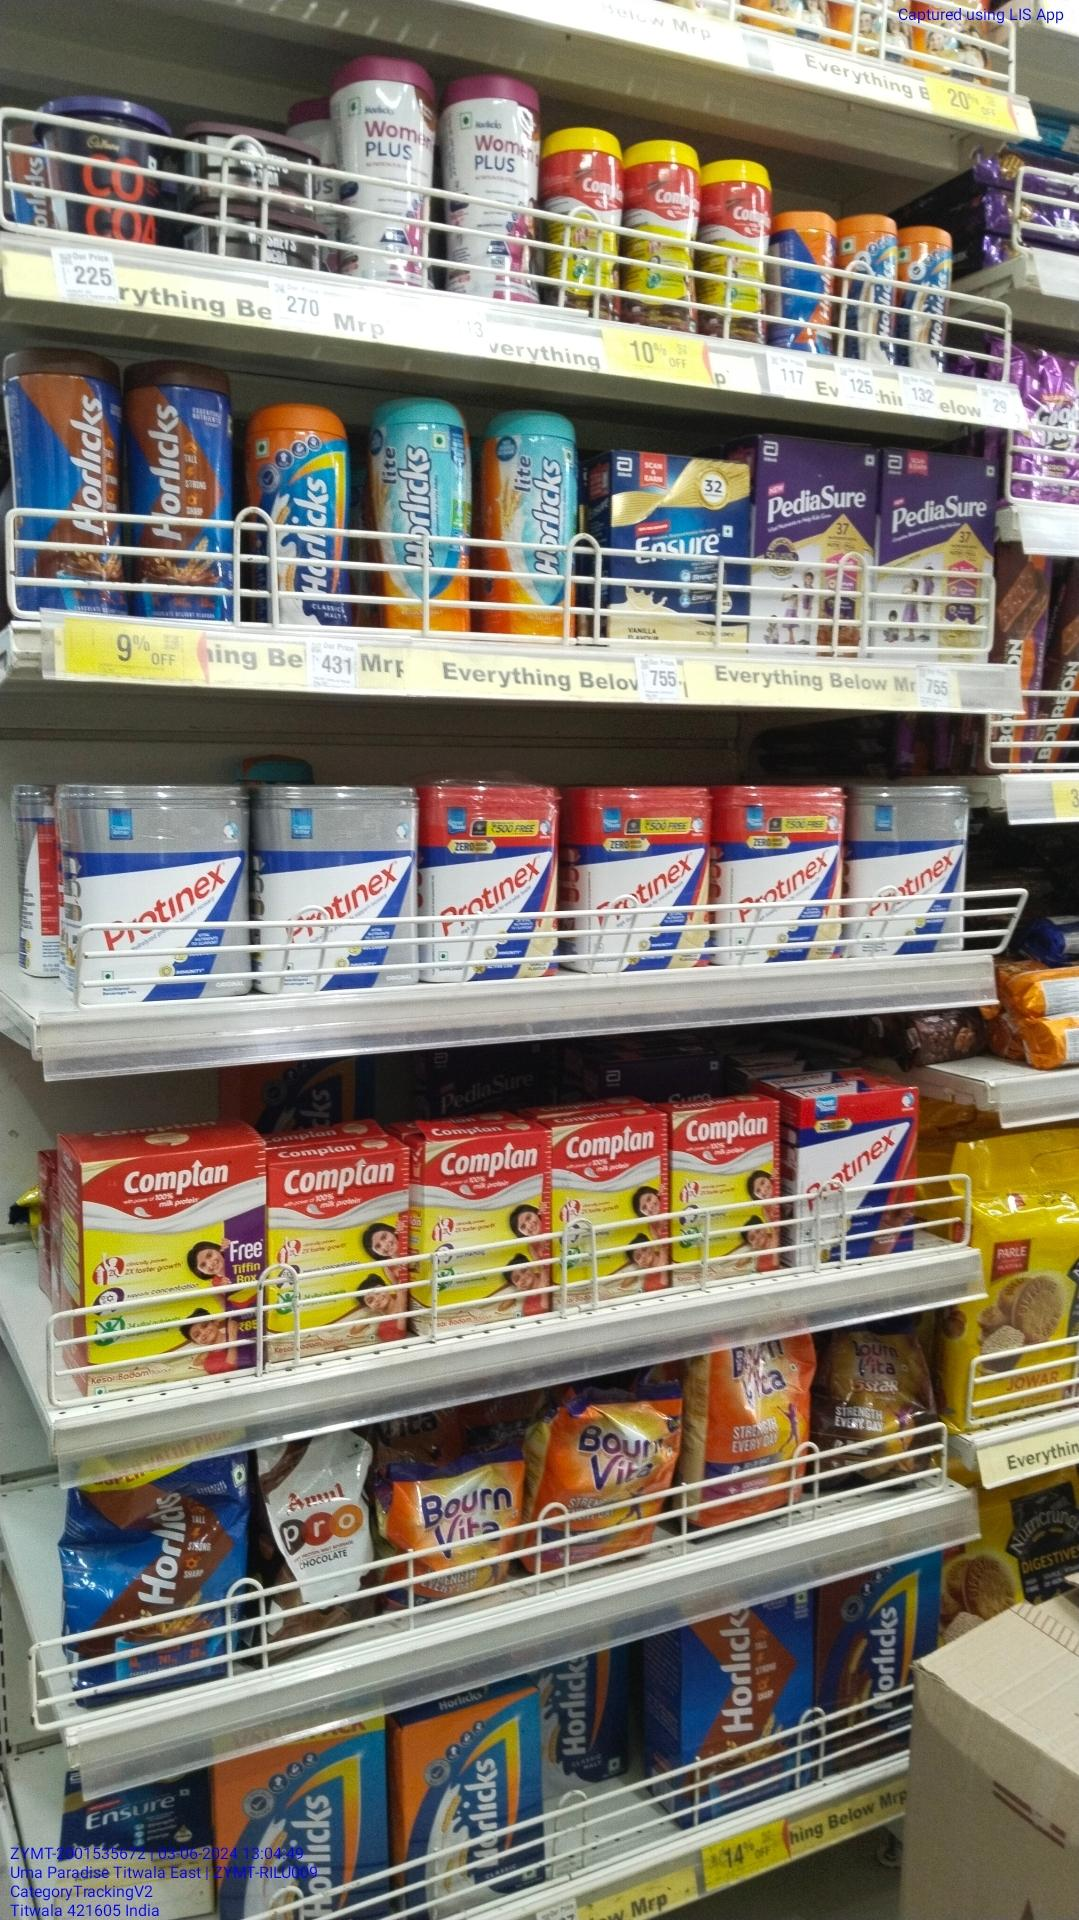COMPLAN_CHOCOLATE_200_GMS_JAR: (542, 129, 619, 315), (627, 137, 698, 332), (700, 158, 769, 340)
HORLICKS_LITE_REGULAR_MALT_500_GM_JAR: (372, 397, 472, 632), (485, 407, 575, 636)
PEDIASURE_VANILLA_500_G_PACK: (876, 451, 995, 663)
PROTINEX_ORIGINAL_400_G_JAR: (63, 782, 252, 997), (262, 790, 422, 990), (848, 783, 964, 952)
PROTINEX_VANILLA_400_G_JAR: (427, 782, 561, 986), (575, 786, 711, 972), (725, 787, 843, 968)
